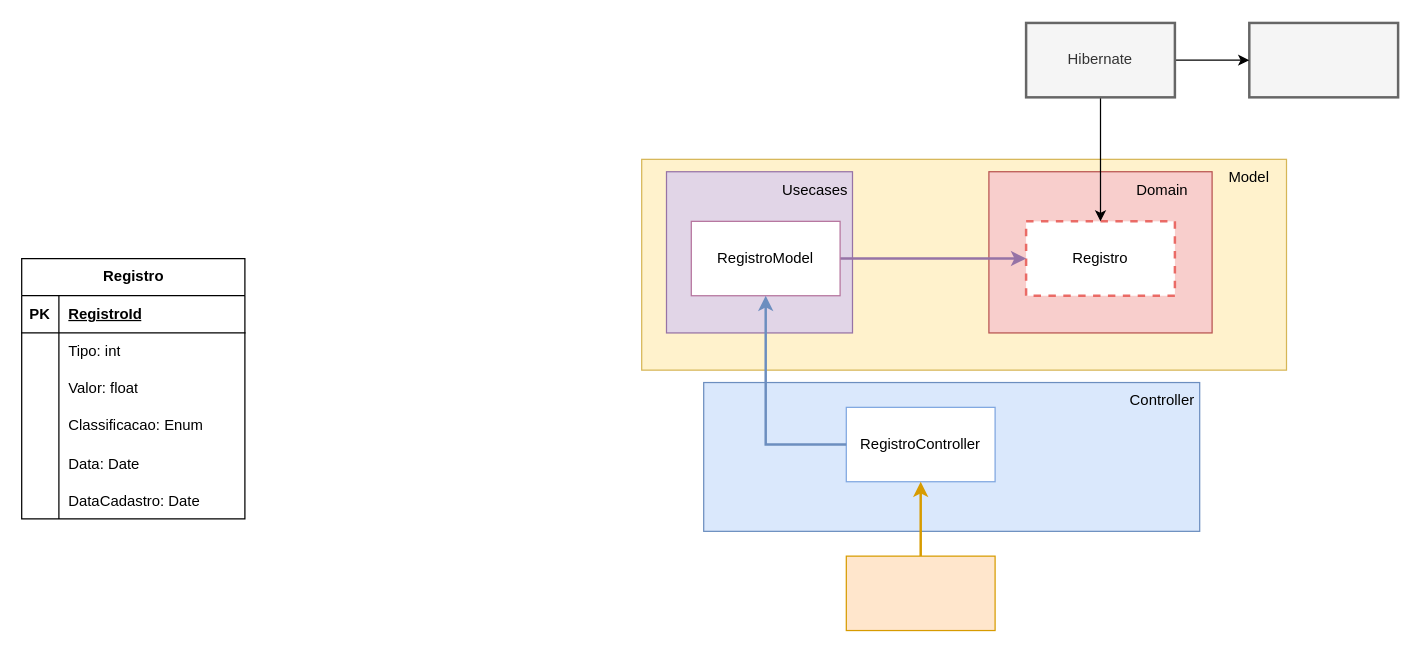
This 1421x652 diagram has some shape labels left out. Here are the shapes that lost their labels. From the top down, the centre of each, then its label:
At point 1323,59: "PostgresDriver".
At point 920,593: "View".
